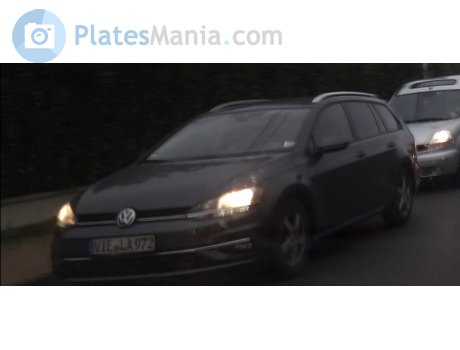License Plates: (92, 233, 160, 253)
